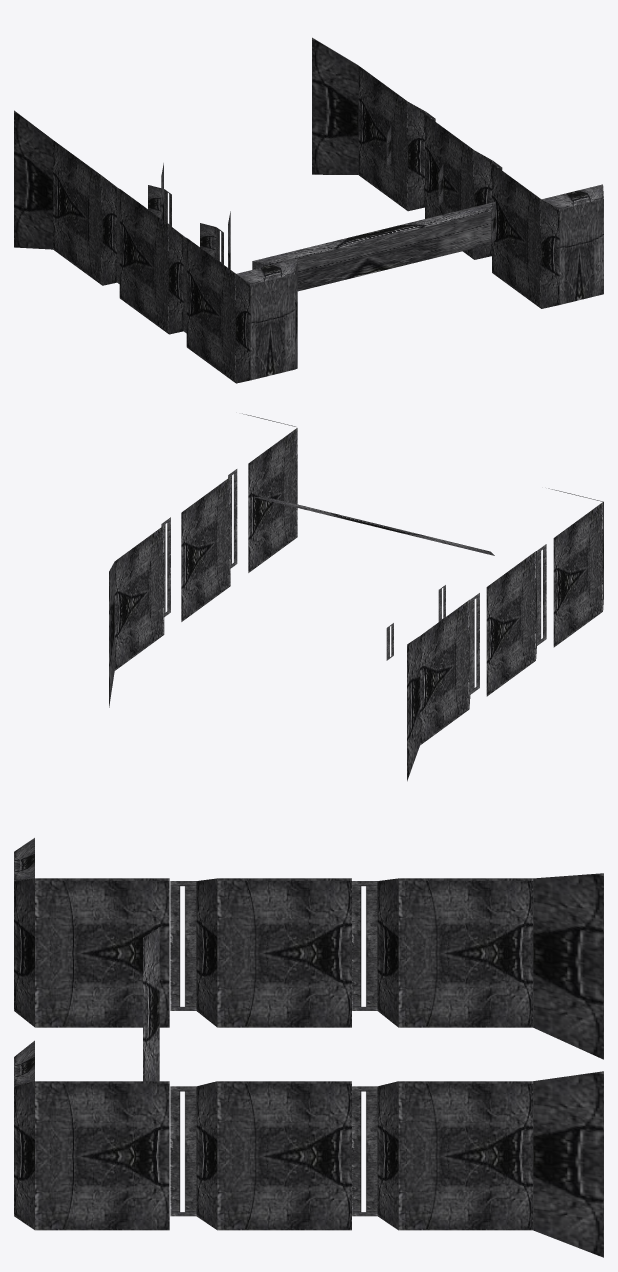
3 views of the same model, one above another, from view 1: azimuth 30°, elevation 25°; view 2: azimuth 150°, elevation 25°; view 3: azimuth 270°, elevation 25° (orthographic). The views are drawn at different scales.
Parts seen in each view (by area): view 1: model_Object04; view 2: model_Object04; view 3: model_Object04.
Part boxes in pixels (left/top/right/bottom): model_Object04: left=14, top=37, right=603, bottom=383; model_Object04: left=109, top=413, right=603, bottom=781; model_Object04: left=14, top=838, right=603, bottom=1257.
Bounding box in the file's own units: 3 × 1 × 2.87.
3 materials, 3 textured.
